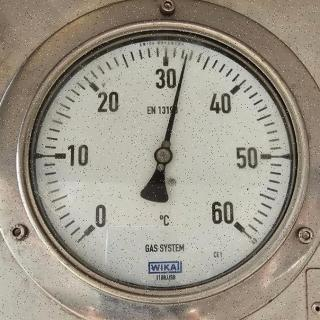gauge: (21, 18, 309, 307), (74, 211, 106, 243), (220, 209, 252, 239), (152, 146, 174, 166), (181, 50, 191, 64)
